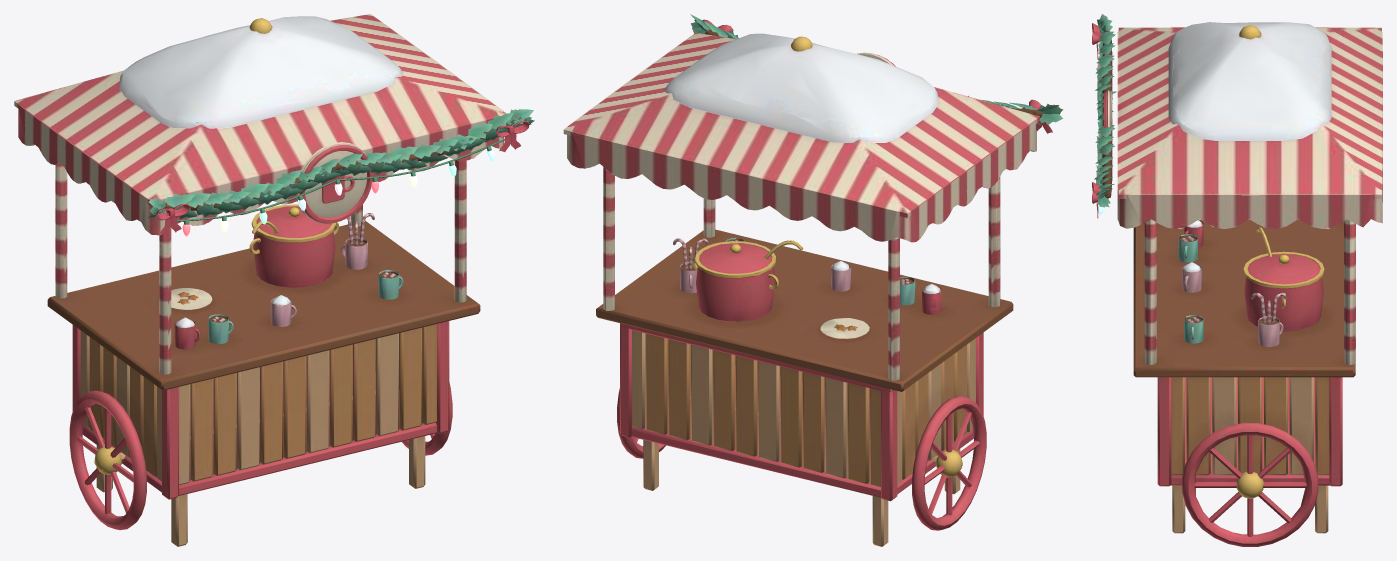
File: puesto_chocolate.glb
3 renders of one model, left to right at view 1: azimuth 30°, elevation 25°; view 2: azimuth 150°, elevation 25°; view 3: azimuth 270°, elevation 25°, orthographic. The views are drawn at different scales.
Visible parts, largest first — view 1: hot-chocolate-stand_body; view 2: hot-chocolate-stand_body; view 3: hot-chocolate-stand_body.
Part boxes in pixels (x1,y1,x2,y2): hot-chocolate-stand_body: (14,14,534,546); hot-chocolate-stand_body: (563,14,1063,546); hot-chocolate-stand_body: (1092,14,1382,546).
Size of the model in its own units: 2.28 by 2.64 by 1.55.
Materials: 6 (1 with a texture image).
